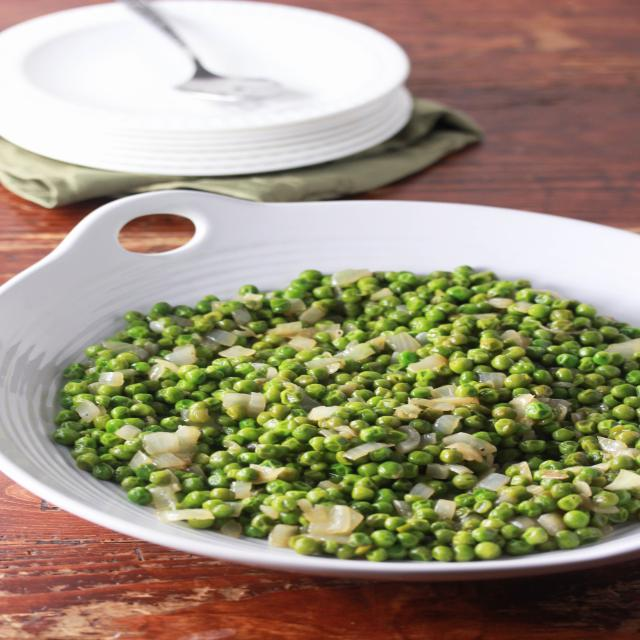pea: (362, 508, 490, 563), (224, 424, 344, 465), (530, 339, 624, 386), (73, 428, 137, 482), (174, 358, 258, 394), (586, 382, 640, 422)
